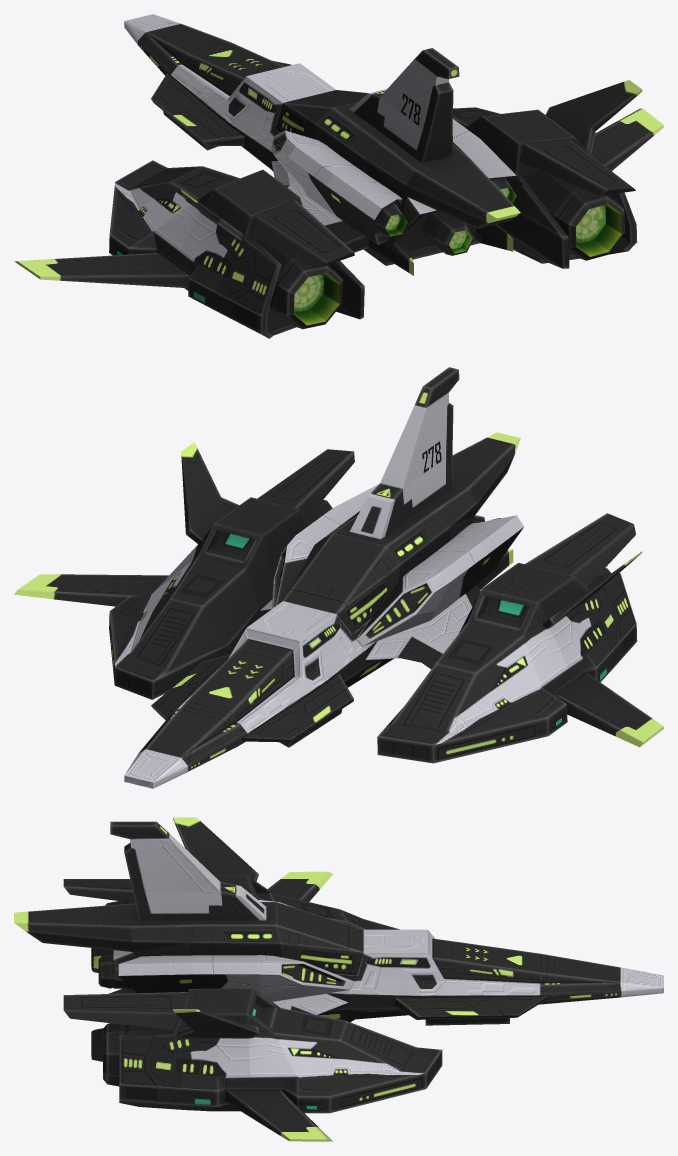
Rendered from Space_ship.fbx.
The picture shows the model from 3 angles, top to bottom: view 1: azimuth 30°, elevation 25°; view 2: azimuth 150°, elevation 25°; view 3: azimuth 270°, elevation 25°; orthographic projection. The views are drawn at different scales.
Visible parts, largest first — view 1: Space_ship; view 2: Space_ship; view 3: Space_ship.
Boxes of the visible parts, x1,y1,x2,y2 form: Space_ship: (14, 14, 663, 338); Space_ship: (14, 367, 663, 788); Space_ship: (14, 817, 663, 1141).
Size of the model in its own units: 3296 by 1241 by 3377.
